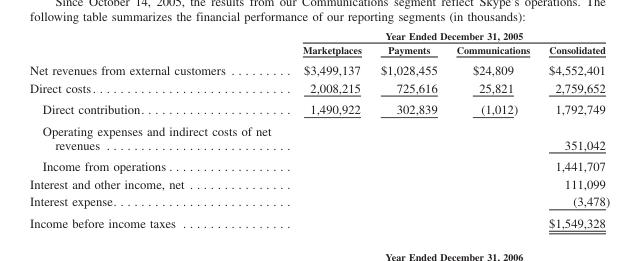table: (29, 29, 609, 229)
table column: (29, 29, 286, 229), (446, 29, 538, 229), (286, 29, 370, 229), (370, 29, 446, 229), (538, 29, 609, 229)
table column header: (29, 29, 609, 58)
table row: (29, 119, 609, 154), (29, 98, 609, 119), (29, 58, 609, 78), (29, 78, 609, 98), (29, 154, 609, 174), (29, 192, 609, 211), (29, 174, 609, 192), (29, 211, 609, 229), (29, 41, 609, 58), (29, 29, 609, 41)
table spanning cell: (286, 29, 609, 41)
